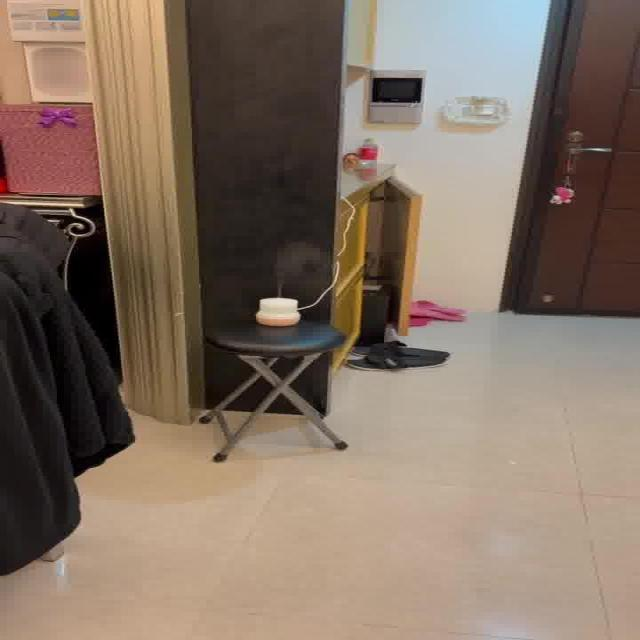fire: (268, 238, 326, 290)
